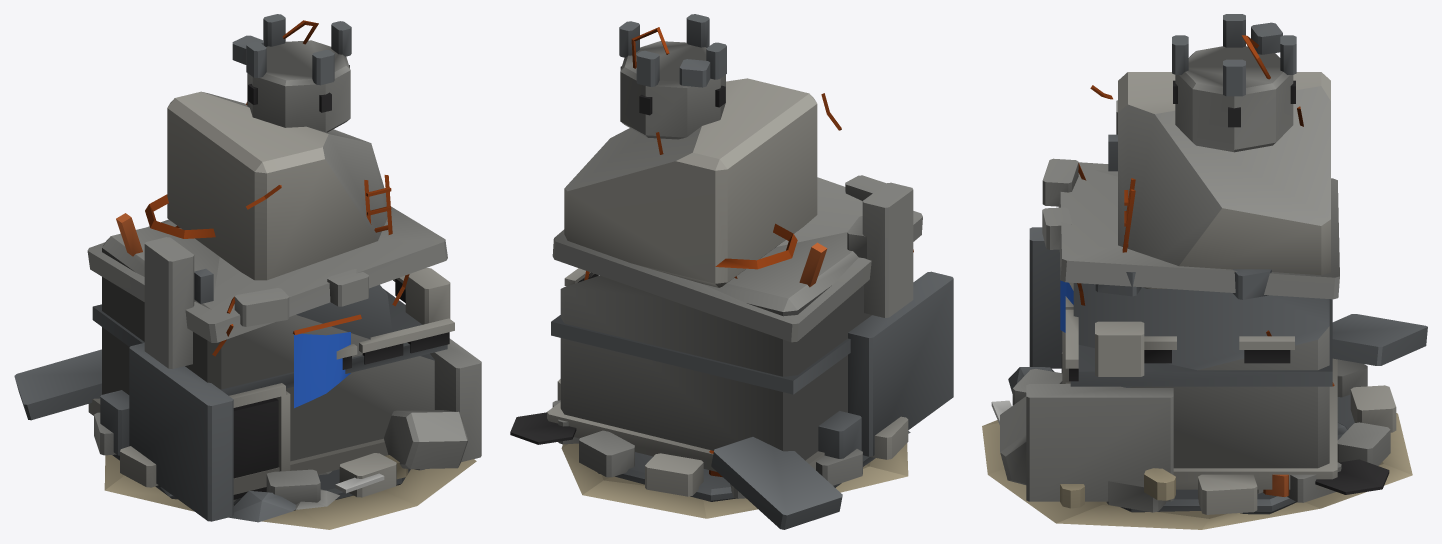
File: n_bunker.glb
3 views of the same model, side by side, from view 1: azimuth 30°, elevation 25°; view 2: azimuth 150°, elevation 25°; view 3: azimuth 270°, elevation 25° (orthographic). The views are drawn at different scales.
Parts seen in each view (by area): view 1: body, swayFlag; view 2: body; view 3: body.
Boxes of the visible parts, x1,y1,x2,y2 form: body: [14, 14, 481, 529]; swayFlag: [294, 332, 350, 408]; body: [510, 14, 953, 529]; body: [982, 14, 1427, 529].
Bounding box in the file's own units: 2.63 × 2.97 × 2.72.
